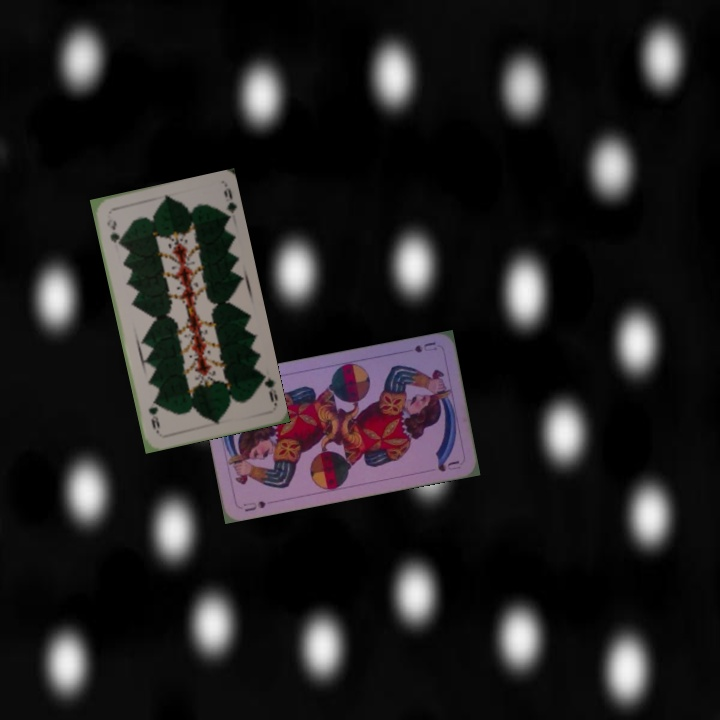G9: (256, 370, 280, 408), (103, 215, 123, 248)
SU: (410, 338, 439, 355), (239, 497, 268, 514)
